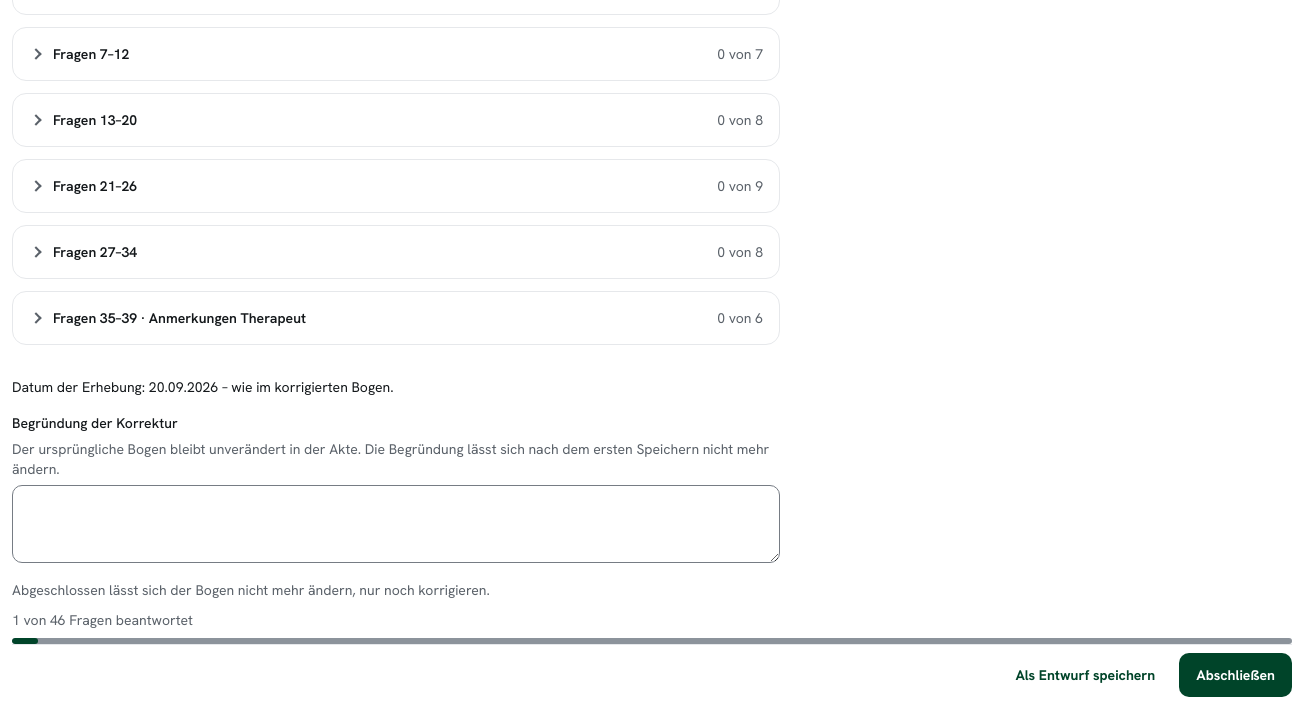
Scenario: Erhebung › behält das Formular, wenn die eigene Korrektur die Liste ändert
(page scrolled)
Click the text box labelled "Begründung der Korrektur": (396, 524) [12,485,780,563]
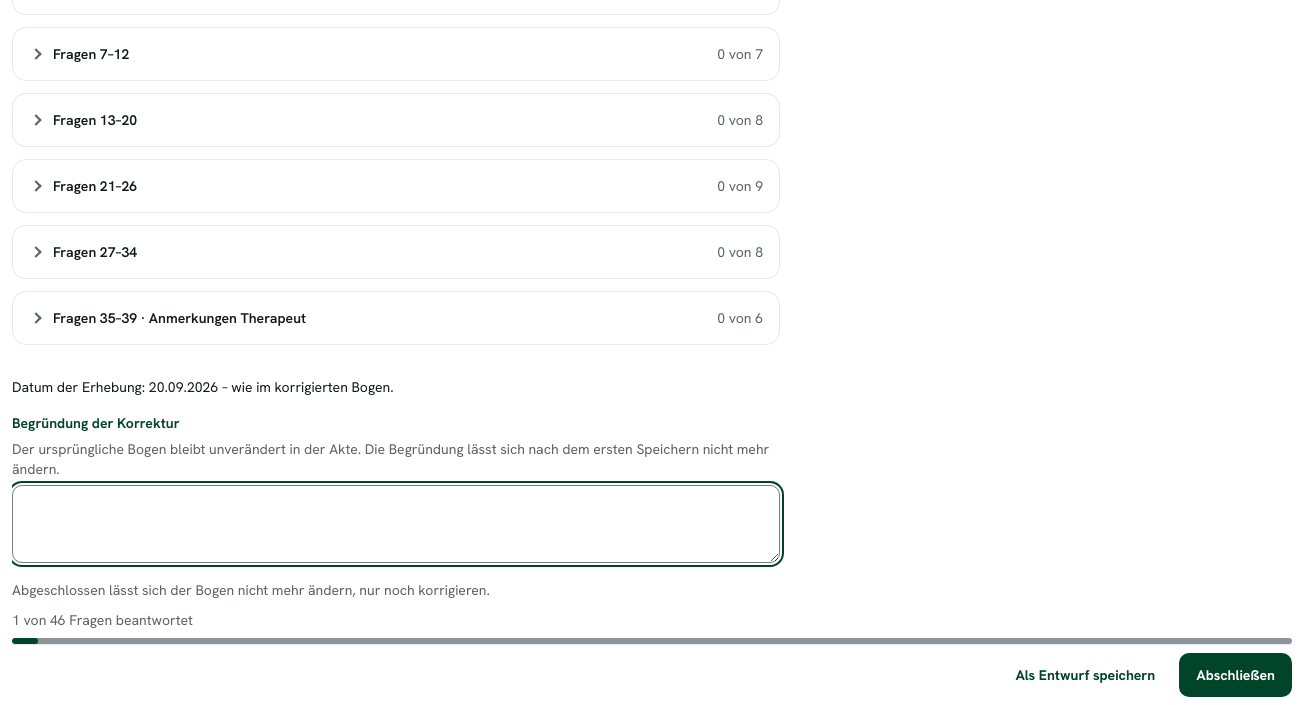
Type keys "Frage 2 verwechselt"
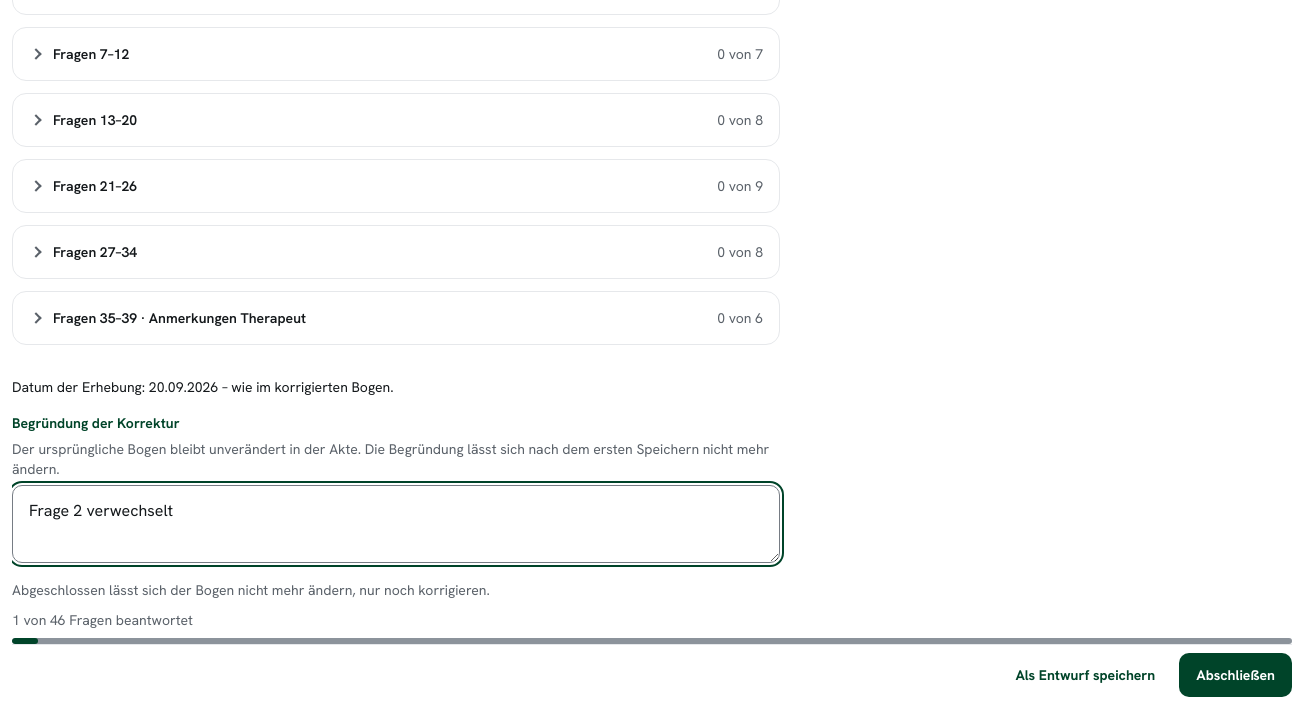
Click the button "Abschließen": (1236, 675) [1179,653,1292,697]
(page scrolled)
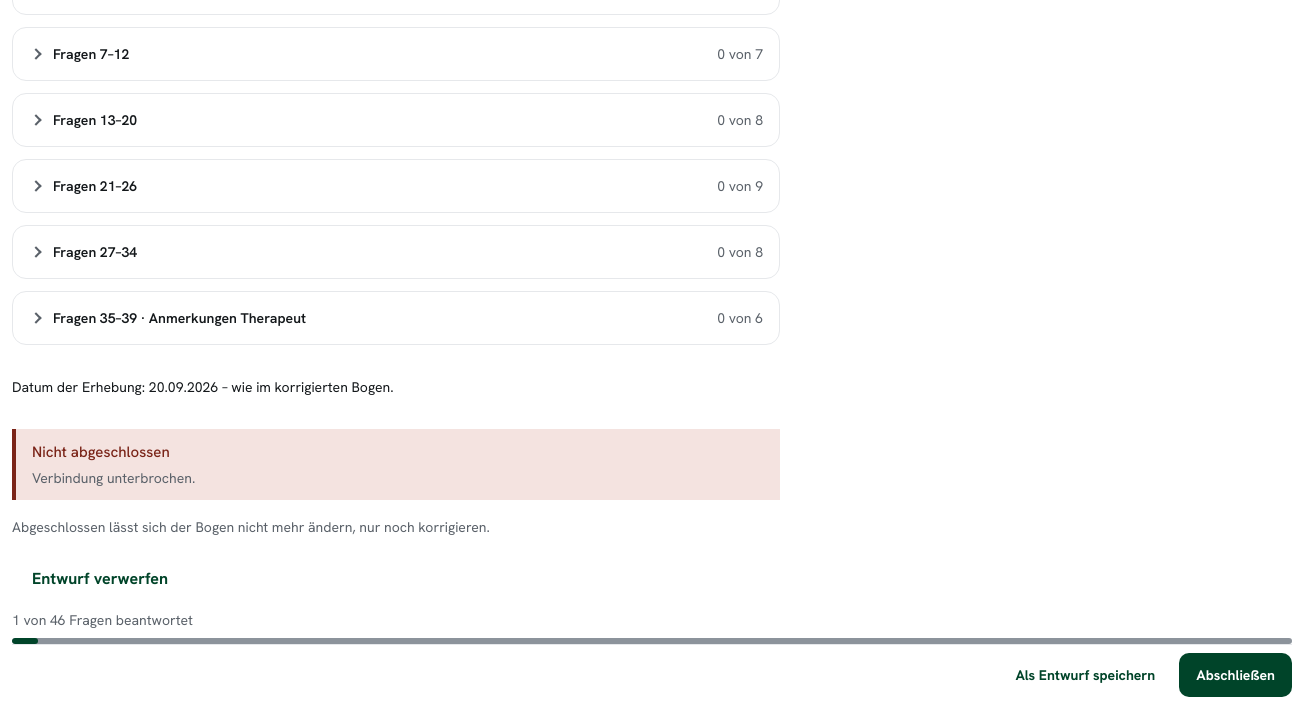
Result: the text "Verbindung unterbrochen." is shown at [32,469,195,487]
